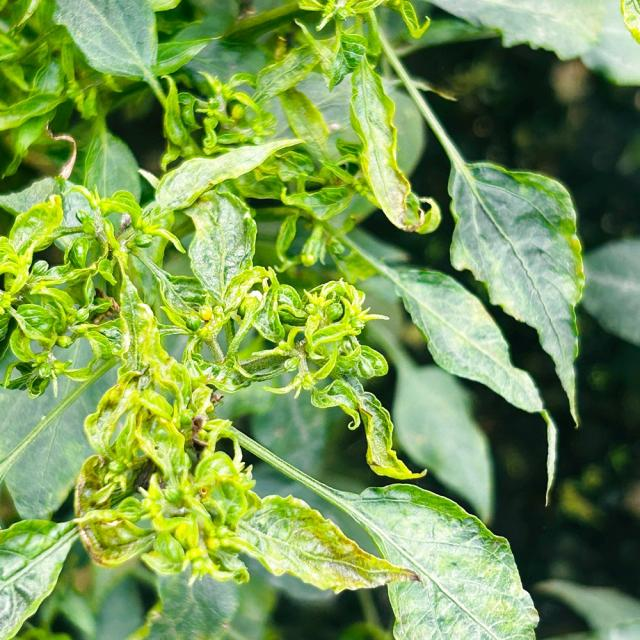Chilli_Leaf_Curl: (1, 1, 592, 638), (212, 420, 540, 639), (446, 160, 586, 428), (352, 481, 540, 639), (234, 492, 422, 594), (346, 51, 430, 234), (150, 136, 306, 216), (0, 516, 81, 639)
